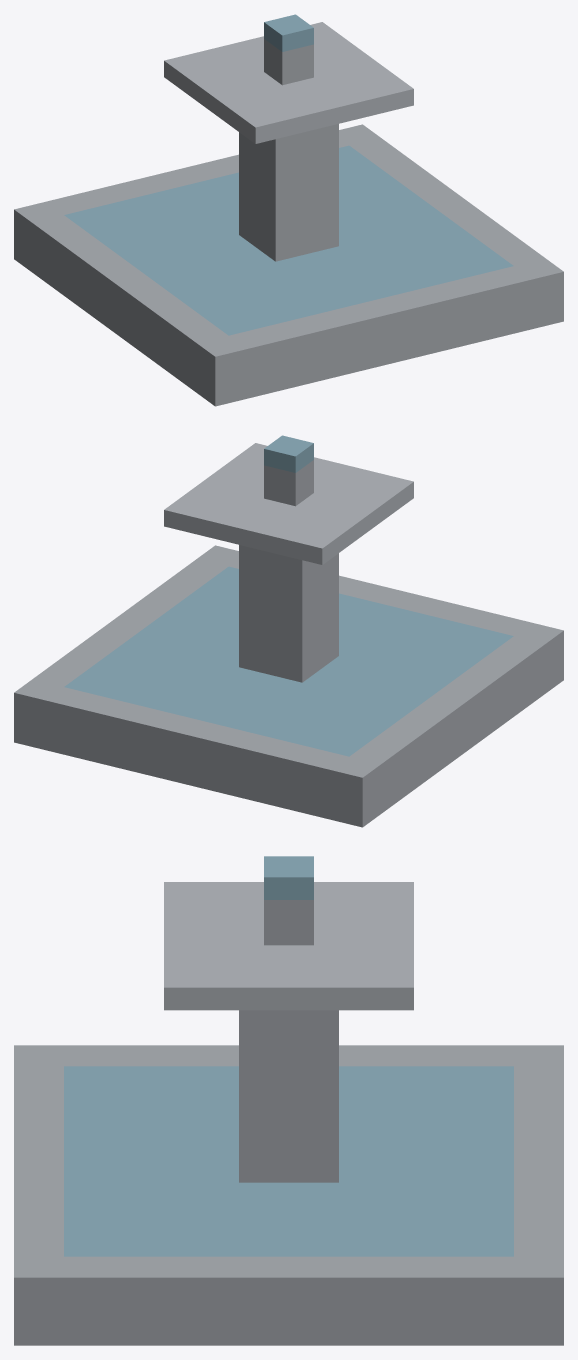
The model's file is fuente_piedra_01.glb.
3 views of the same model, one above another, from view 1: azimuth 30°, elevation 25°; view 2: azimuth 150°, elevation 25°; view 3: azimuth 270°, elevation 25° (orthographic). The views are drawn at different scales.
Visible parts, largest first — view 1: fuente_piedra_01; view 2: fuente_piedra_01; view 3: fuente_piedra_01.
Part boxes in pixels (x1,y1,x2,y2): fuente_piedra_01: (14, 14, 563, 406); fuente_piedra_01: (14, 435, 563, 827); fuente_piedra_01: (14, 856, 563, 1345).
Size of the model in its own units: 2.2 by 1.6 by 2.2.
